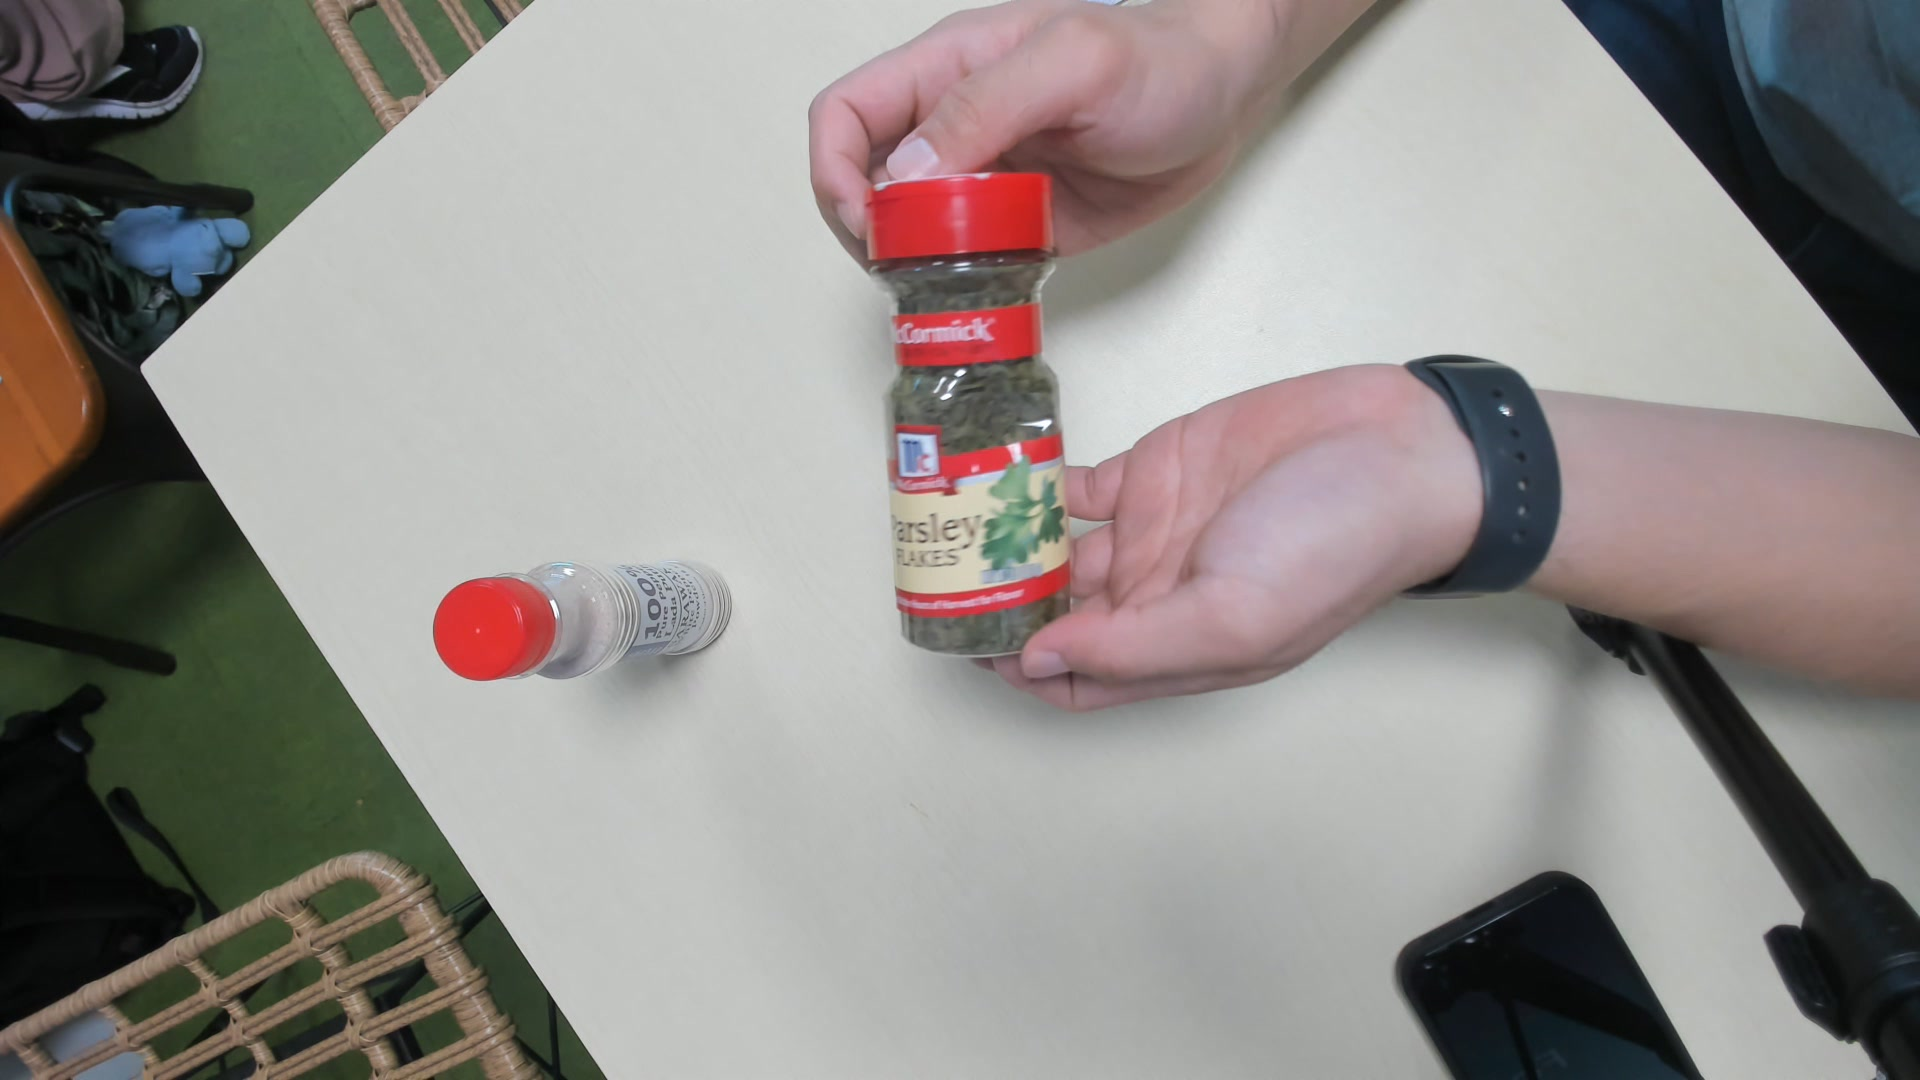HerbsSpicesPepper_0-99g_NonHalal_NonHealthy: (851, 167, 1072, 658)
